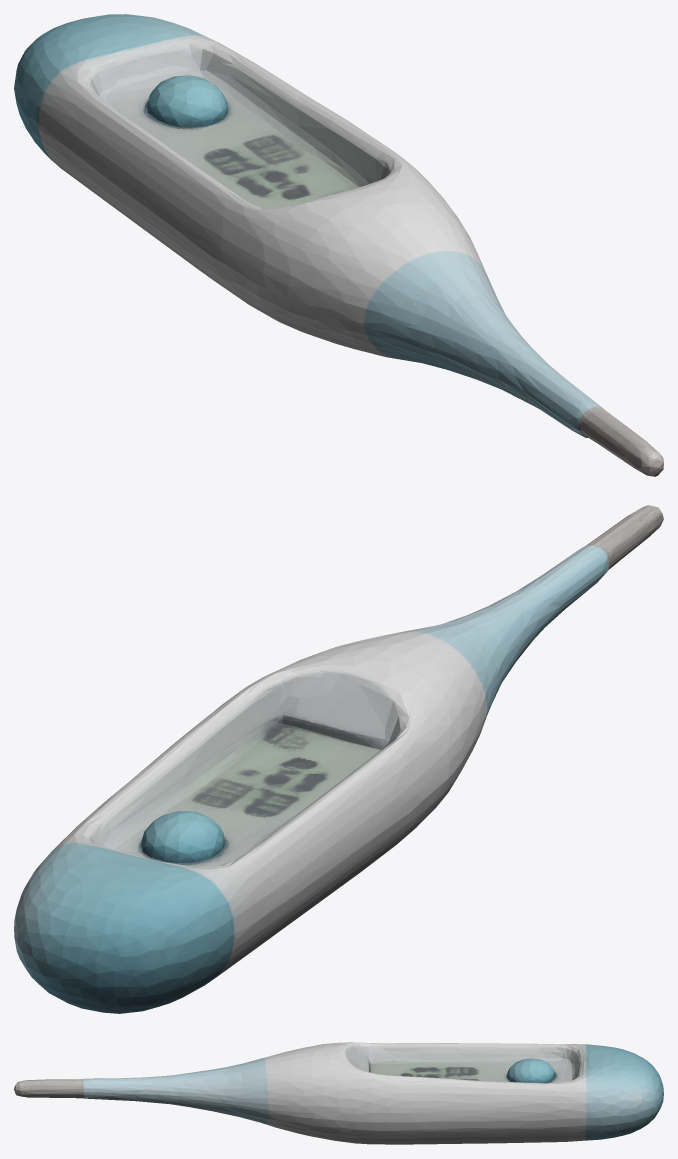
Rendered from thermometer.glb.
3 views of the same model, one above another, from view 1: azimuth 30°, elevation 25°; view 2: azimuth 150°, elevation 25°; view 3: azimuth 270°, elevation 25° (orthographic). The views are drawn at different scales.
Visible parts, largest first — view 1: world; view 2: world; view 3: world.
Boxes of the visible parts, <box> form: world: <box>14,14,663,476</box>; world: <box>14,505,663,1013</box>; world: <box>14,1042,663,1144</box>.
Bounding box in the file's own units: 0.2014 × 0.1427 × 1.
1 material, 1 textured.
